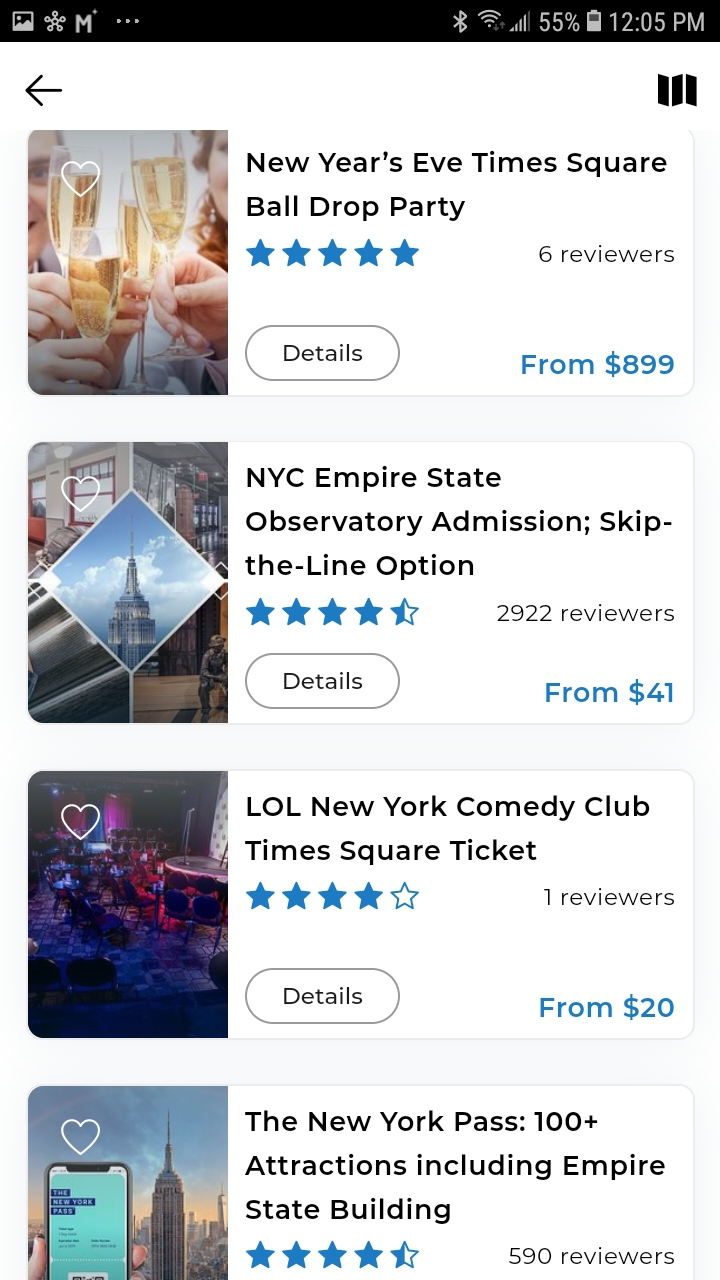Icon: (246, 880, 420, 910), (246, 1240, 420, 1269), (246, 598, 420, 627), (246, 239, 420, 268), (62, 804, 101, 841), (62, 477, 101, 513), (62, 162, 101, 198), (63, 1119, 101, 1155), (658, 75, 697, 108), (26, 75, 63, 108)
Image: (29, 442, 229, 723), (30, 772, 229, 1039), (29, 131, 229, 396), (29, 1086, 229, 1280)
Text: (245, 467, 672, 581), (245, 1110, 666, 1225), (247, 152, 667, 222), (245, 794, 650, 866), (522, 351, 674, 378), (540, 994, 675, 1021), (546, 679, 673, 706), (497, 604, 675, 622), (509, 1247, 675, 1265), (539, 245, 674, 264), (544, 888, 675, 906)
TextButton: (245, 967, 401, 1025), (245, 652, 401, 710), (246, 326, 401, 382)
UpperTaskBar: (1, 1, 720, 43)
